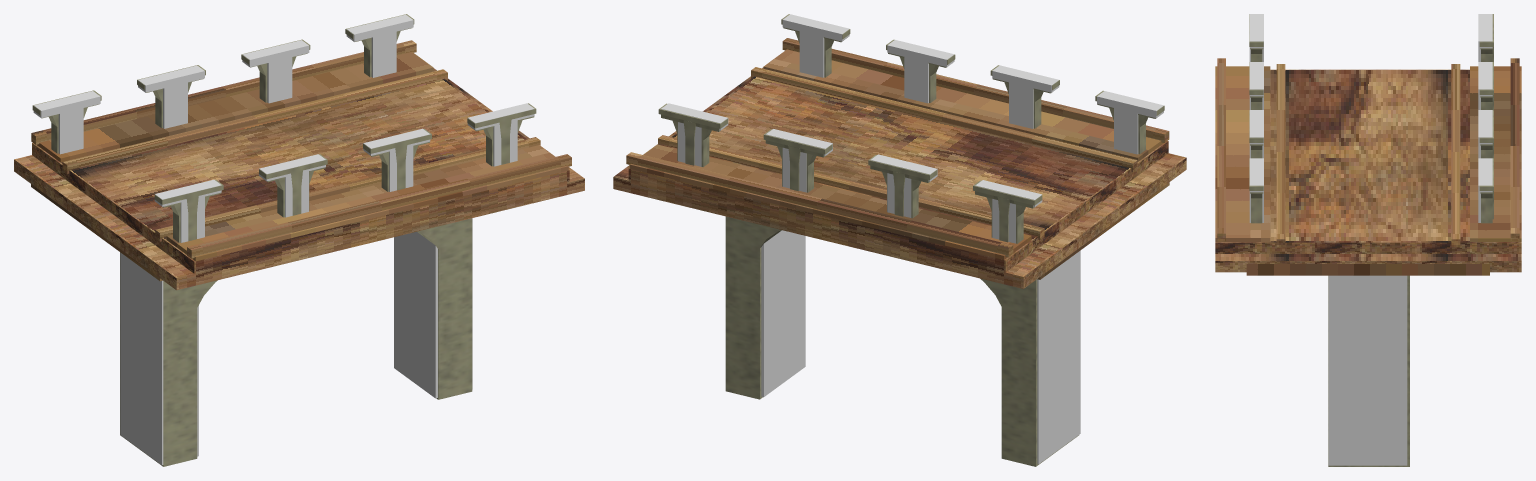
File: Bridge.gltf
The picture shows the model from 3 angles, left to right: view 1: azimuth 30°, elevation 25°; view 2: azimuth 150°, elevation 25°; view 3: azimuth 270°, elevation 25°; orthographic projection. The views are drawn at different scales.
Visible parts, largest first — view 1: COL.003, 立方体, 立方体.001, 円, COL, COL.004, Cube, COL.001, COL.007; view 2: COL.003, 立方体.001, 立方体, 円, COL, COL.007, Cube, COL.001, COL.004; view 3: COL.003, COL.001, 立方体, 立方体.001, Cube, COL.007, COL.004, 円.
Part boxes in pixels (x1,y1,x2,y2): COL.003: (14,68,584,290); 立方体: (31,52,568,281); 立方体.001: (31,40,571,258); 円: (120,218,472,466); COL: (120,252,198,465); COL.004: (33,14,413,154); Cube: (32,14,536,242); COL.001: (394,218,472,398); COL.007: (154,103,534,242); COL.003: (613,67,1186,288); 立方体.001: (626,38,1169,257); 立方体: (629,49,1169,279); 円: (725,216,1078,466); COL: (1037,250,1080,464); COL.007: (782,14,1163,154); Cube: (658,14,1164,243); COL.001: (761,230,805,397); COL.004: (661,103,1042,243); COL.003: (1215,69,1521,272); COL.001: (1328,275,1407,465); 立方体: (1215,66,1521,275); 立方体.001: (1217,58,1519,247); Cube: (1249,14,1493,223); COL.007: (1249,14,1263,222); COL.004: (1478,14,1492,222); 円: (1328,275,1409,466).
Bounding box in the file's own units: 12.87 × 9.27 × 8.85.
2 materials, 2 textured.
